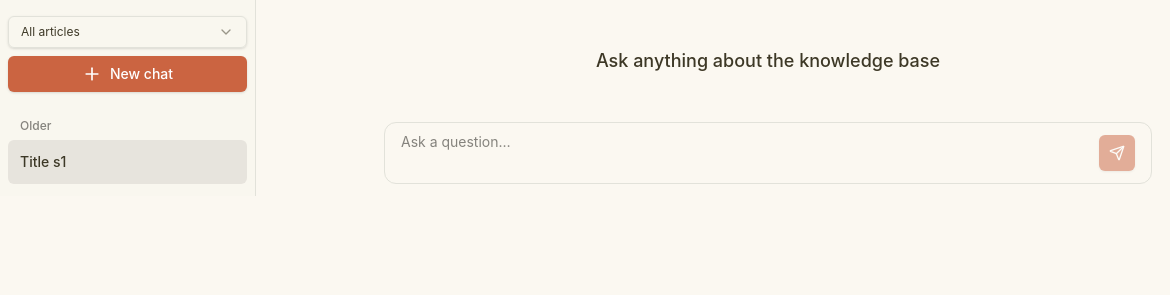
Test: Chat page › stream events › accumulates the model’s reasoning
The width and height of the screenshot is (1170, 295).
In the text box: coordinates (746, 153) [401,131,1091,175], type "what is kaas"
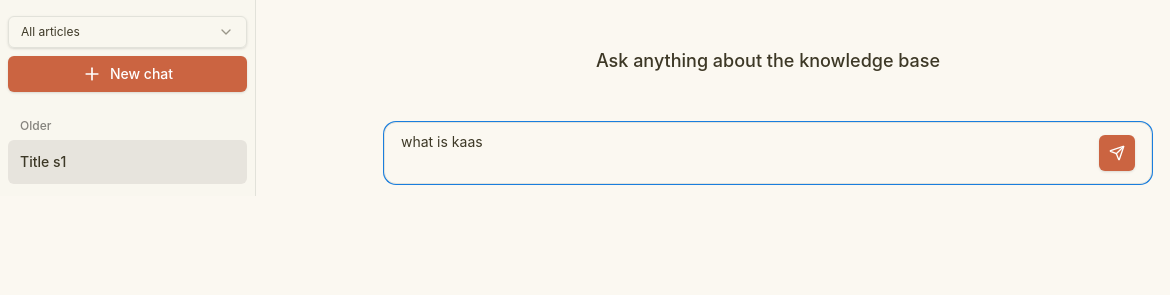
Press Enter
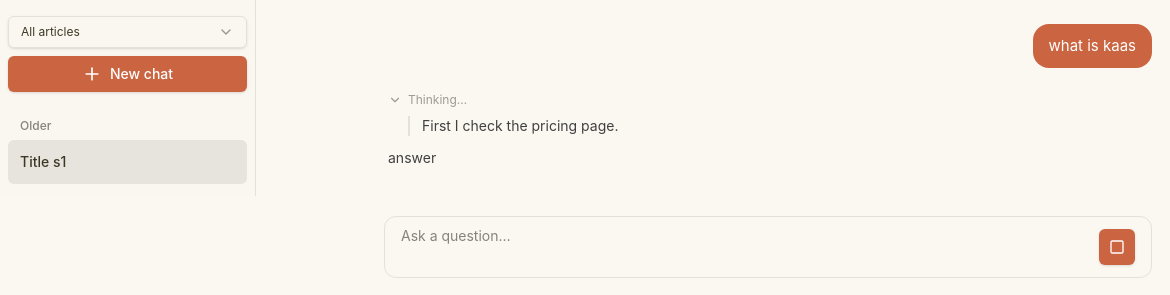
expect the text "First I check the pricing page." is shown: met, box [422,116,618,136]
